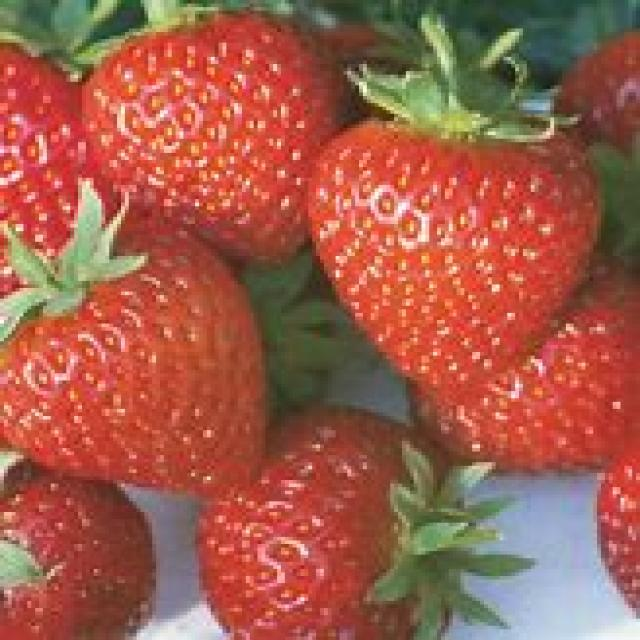Berries strawberries/blueberries: (307, 107, 603, 337), (4, 242, 269, 482), (84, 9, 310, 224), (255, 438, 460, 640)
